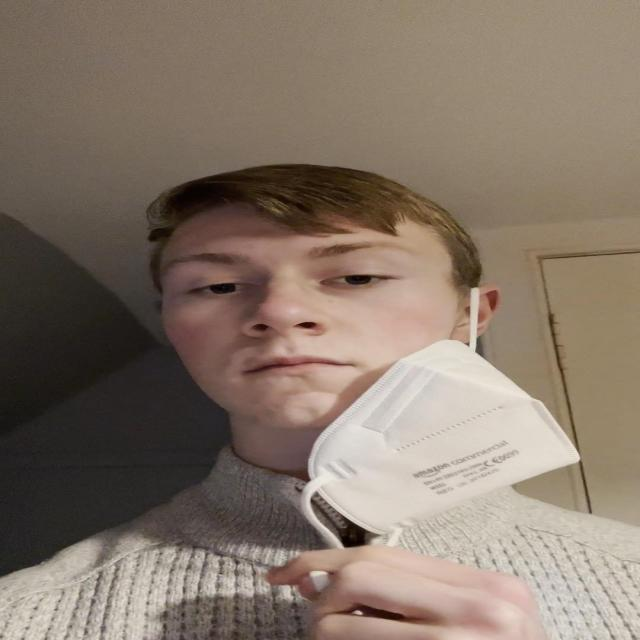no-helmet: (150, 186, 477, 452)
